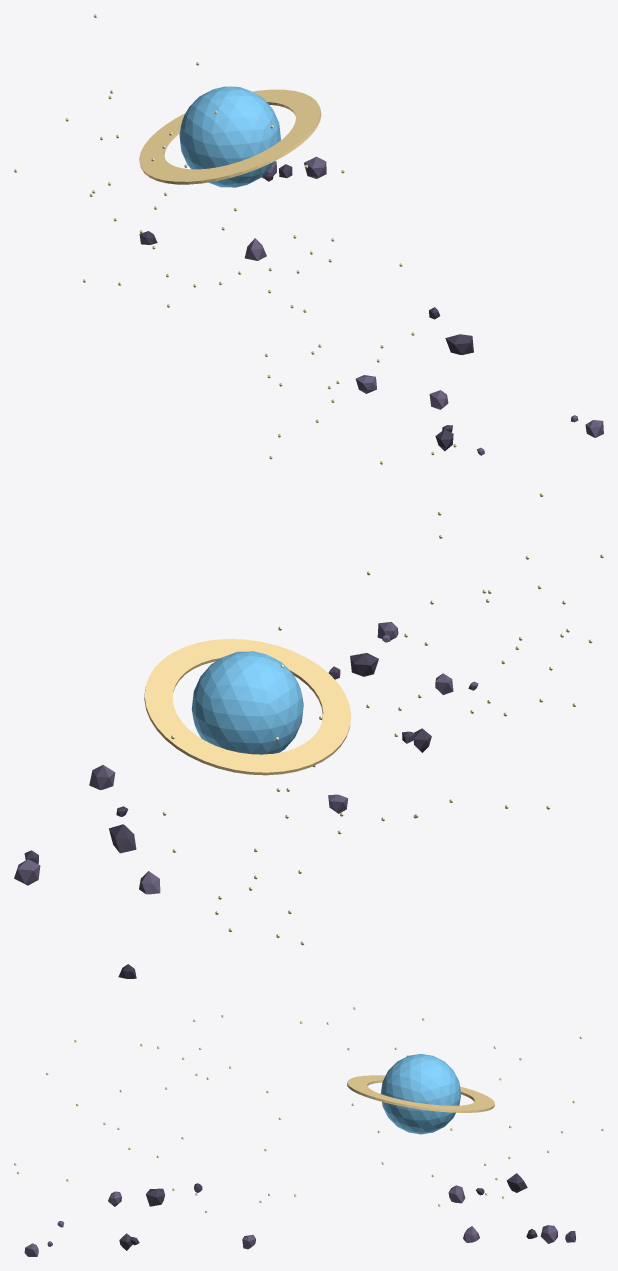
File: espacio_LadoIzq.glb
The picture shows the model from 3 angles, top to bottom: view 1: azimuth 30°, elevation 25°; view 2: azimuth 150°, elevation 25°; view 3: azimuth 270°, elevation 25°; orthographic projection. The views are drawn at different scales.
Parts seen in each view (by area): view 1: Mapa_espacio_LadoIzq; view 2: Mapa_espacio_LadoIzq; view 3: Mapa_espacio_LadoIzq.
Part boxes in pixels (x1=…): Mapa_espacio_LadoIzq: x1=14, y1=14, x2=603, y2=464; Mapa_espacio_LadoIzq: x1=14, y1=493, x2=603, y2=978; Mapa_espacio_LadoIzq: x1=14, y1=1007, x2=603, y2=1256.
Bounding box in the file's own units: 147 × 150 × 380.
Materials: 1 (1 with a texture image).
